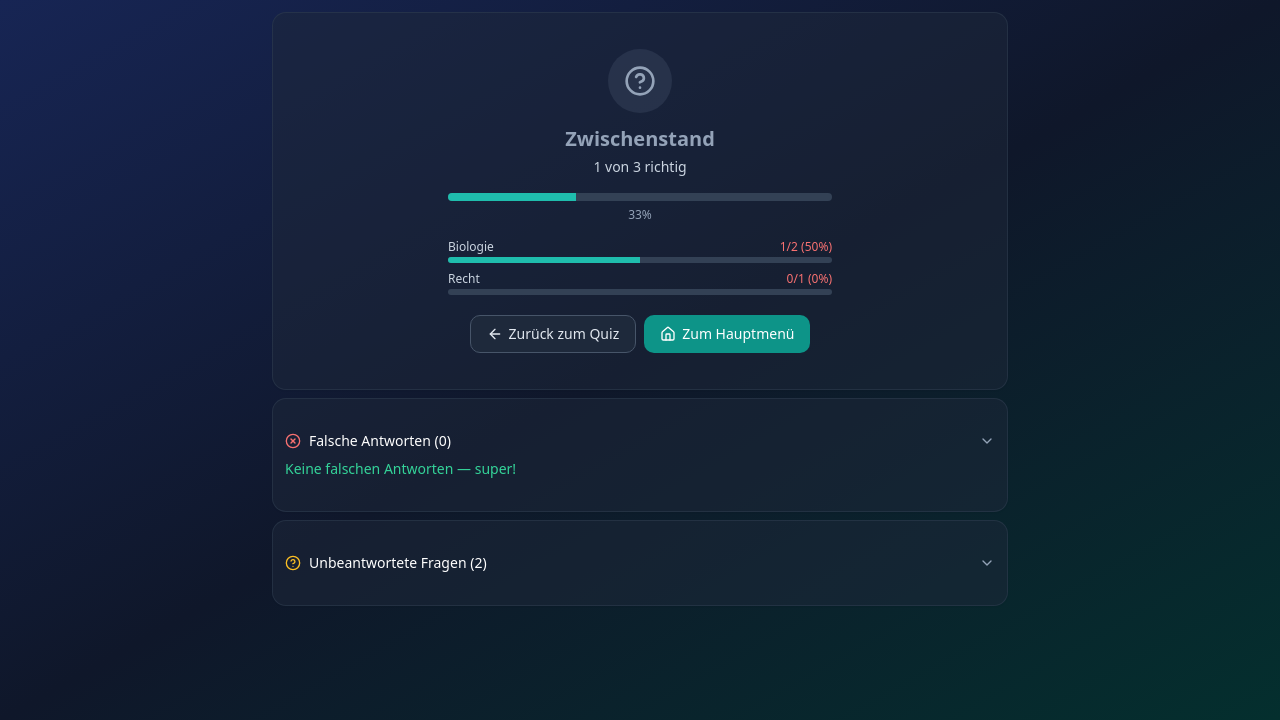
it: ProgressView › toggles unanswered section
The image size is (1280, 720).
Click the button "Unbeantwortete Fragen (2)" at x=392, y=562, box [285,553,995,573]
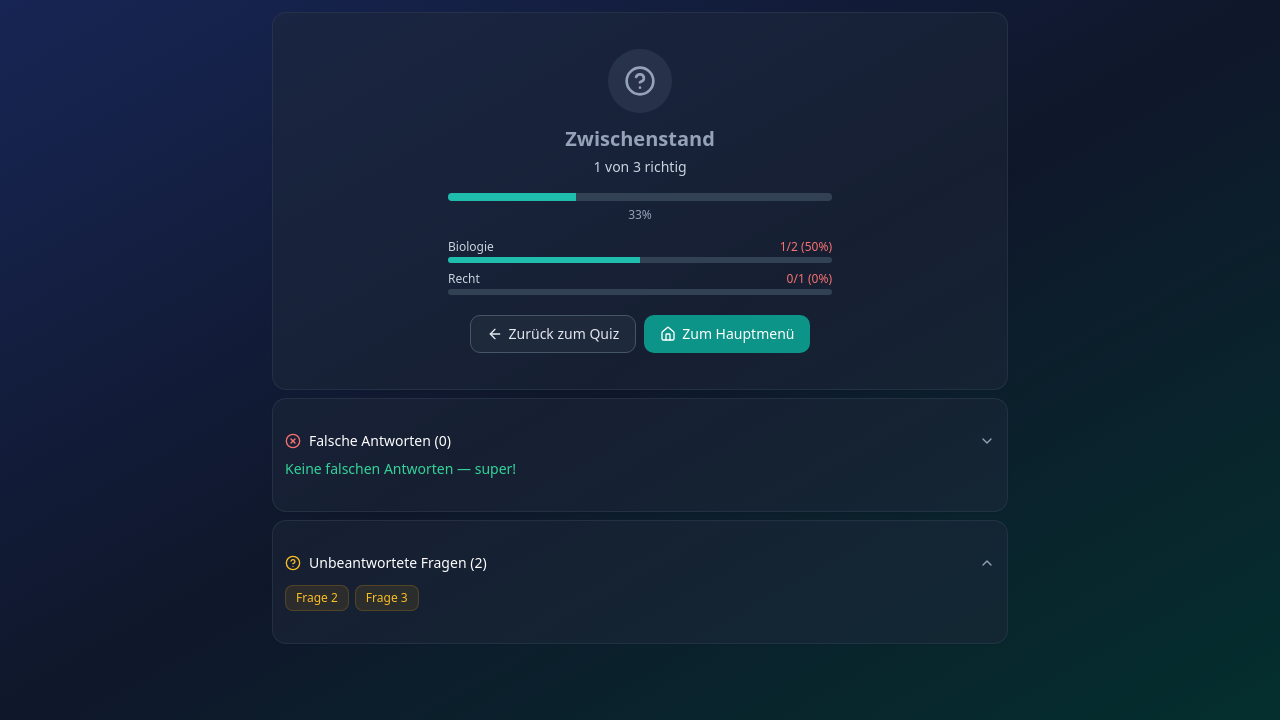
Now the button with aria-label "Zu unbeantworteter Frage 2 springen" is shown, box [285,585,349,611]
